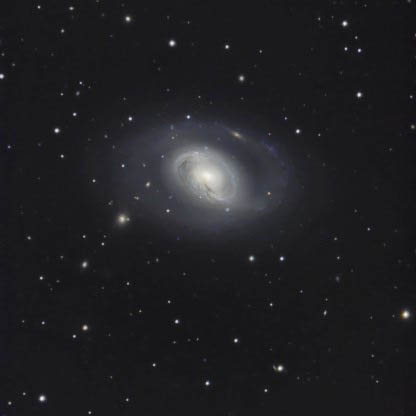Messier 96: (88, 104, 320, 253)
